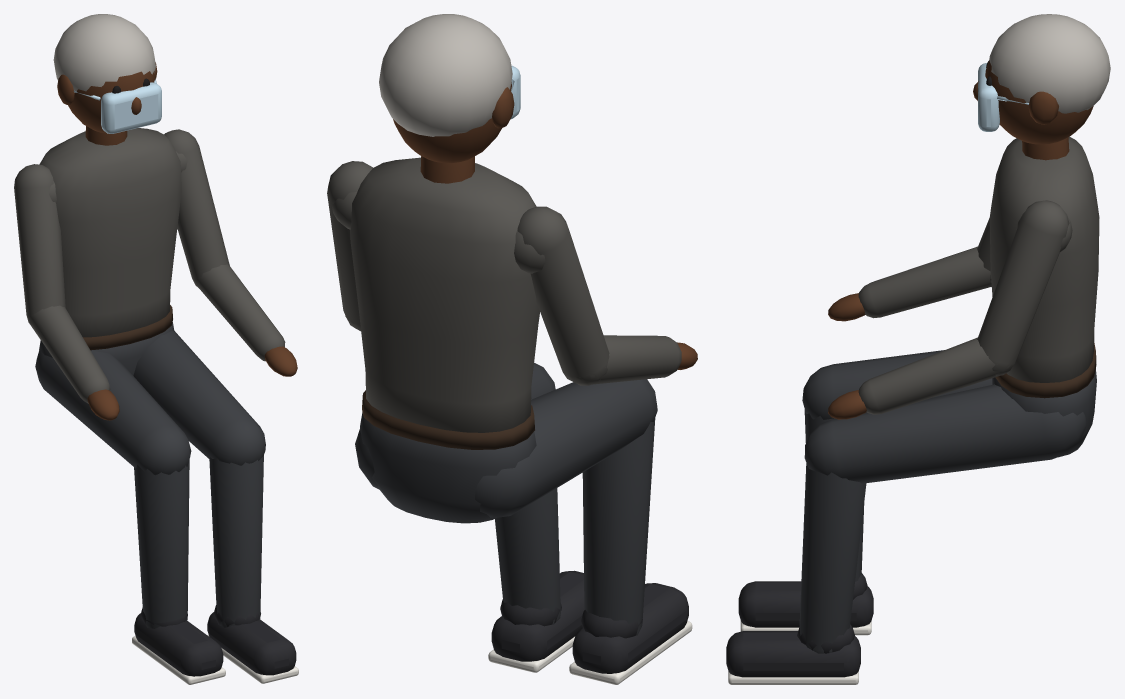
The model's file is gloom_sitter.fbx.
3 renders of one model, left to right at view 1: azimuth 30°, elevation 25°; view 2: azimuth 150°, elevation 25°; view 3: azimuth 270°, elevation 25°, orthographic. The views are drawn at different scales.
Visible parts, largest first — view 1: gloom_sitter; view 2: gloom_sitter; view 3: gloom_sitter.
Part boxes in pixels (x1=…): gloom_sitter: x1=14, y1=14, x2=298, y2=684; gloom_sitter: x1=327, y1=14, x2=697, y2=684; gloom_sitter: x1=726, y1=14, x2=1110, y2=684.
Bounding box in the file's own units: 0.531 × 1.41 × 0.7704.
